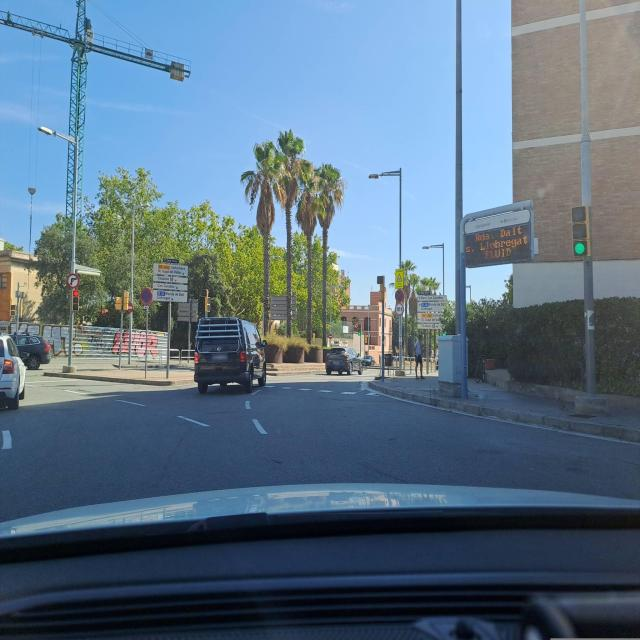car: (193, 316, 268, 395), (0, 332, 27, 412), (9, 333, 52, 369), (325, 346, 363, 376), (360, 354, 375, 366)
